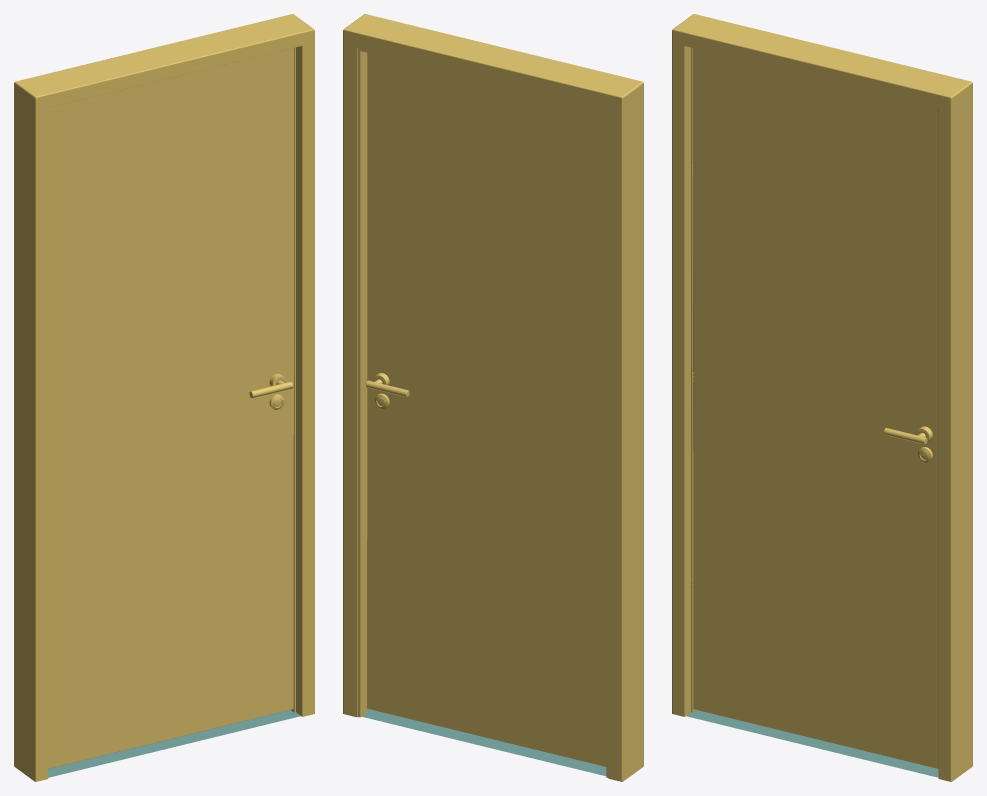
Rendered from Door_ver1_geo.fbx.
3 views of the same model, side by side, from view 1: azimuth 30°, elevation 25°; view 2: azimuth 150°, elevation 25°; view 3: azimuth 330°, elevation 25° (orthographic).
Visible parts, largest first — view 1: Door_inner, Doorframe, Door_floor_cover1; view 2: Door_inner, Doorframe, Door_floor_cover1; view 3: Door_inner, Doorframe, Door_floor_cover1.
Part boxes in pixels (x1,y1,x2,y2): Door_inner: (48,48,293,768); Doorframe: (14,14,314,781); Door_floor_cover1: (48,710,300,777); Door_inner: (367,53,606,766); Doorframe: (343,14,643,781); Door_floor_cover1: (362,709,606,776); Door_inner: (693,48,938,768); Doorframe: (672,14,972,781); Door_floor_cover1: (686,710,938,777).
Size of the model in its own units: 89.42 by 209 by 14.43.
